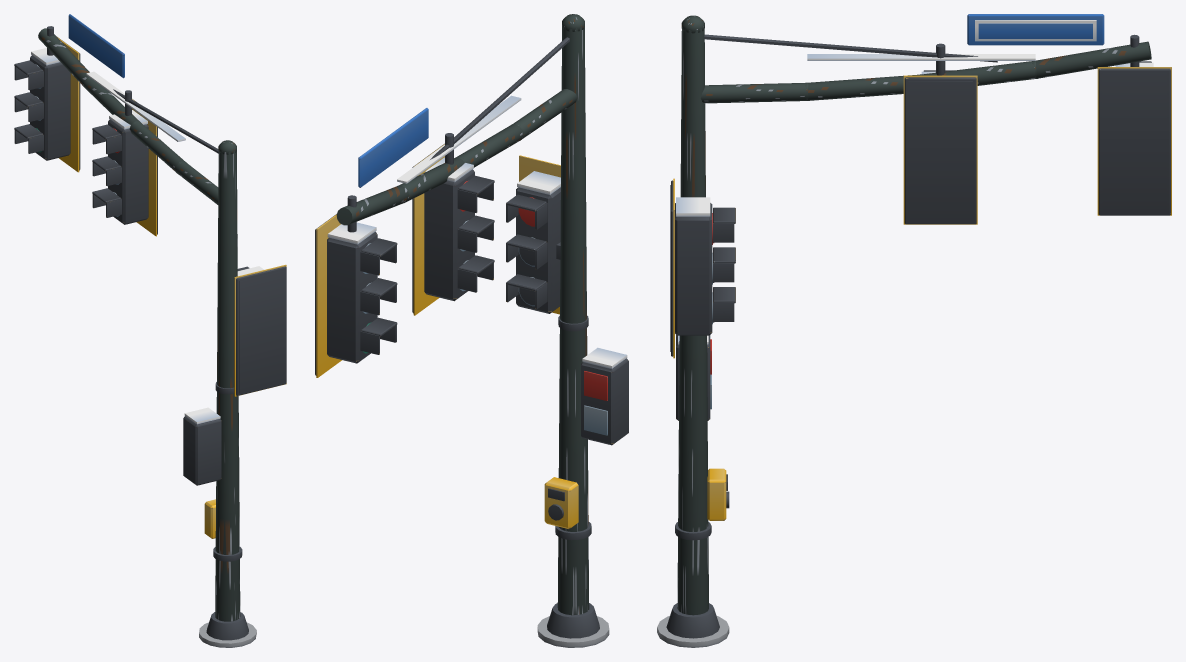
Rendered from ck_traffic_lights.fbx.
3 views of the same model, side by side, from view 1: azimuth 30°, elevation 25°; view 2: azimuth 150°, elevation 25°; view 3: azimuth 270°, elevation 25° (orthographic). The views are drawn at different scales.
Visible parts, largest first — view 1: ck_traffic_lights; view 2: ck_traffic_lights; view 3: ck_traffic_lights.
Boxes of the visible parts, x1,y1,x2,y2 form: ck_traffic_lights: [14, 14, 286, 647]; ck_traffic_lights: [315, 14, 628, 647]; ck_traffic_lights: [657, 14, 1171, 647].
Size of the model in its own units: 338 by 1810 by 1356.
